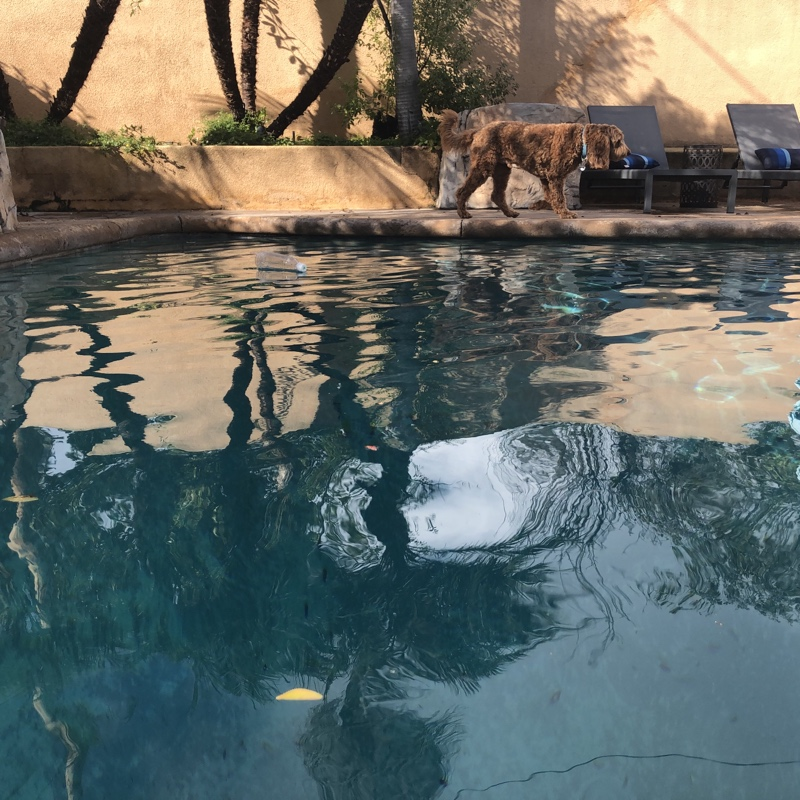Plastic Bottle: (255, 248, 307, 277)
